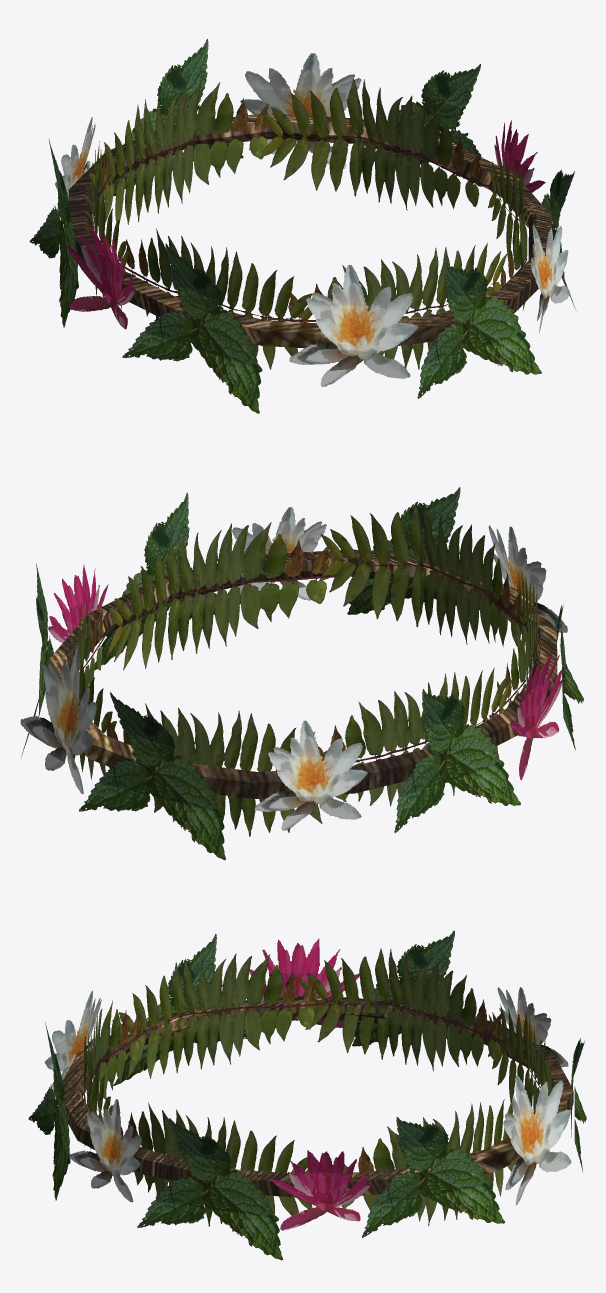
File: K7_HAT_WIANEK_01.glb
3 renders of one model, top to bottom at view 1: azimuth 30°, elevation 25°; view 2: azimuth 150°, elevation 25°; view 3: azimuth 270°, elevation 25°, orthographic. The views are drawn at different scales.
Parts seen in each view (by area): view 1: K7_HAT_WIANEK_01; view 2: K7_HAT_WIANEK_01; view 3: K7_HAT_WIANEK_01.
Part boxes in pixels (left/top/right/bottom): K7_HAT_WIANEK_01: left=29, top=39, right=575, bottom=413; K7_HAT_WIANEK_01: left=20, top=487, right=583, bottom=860; K7_HAT_WIANEK_01: left=28, top=930, right=586, bottom=1260.
Bounding box in the file's own units: 0.2304 × 0.0844 × 0.2566.
5 materials, 5 textured.
